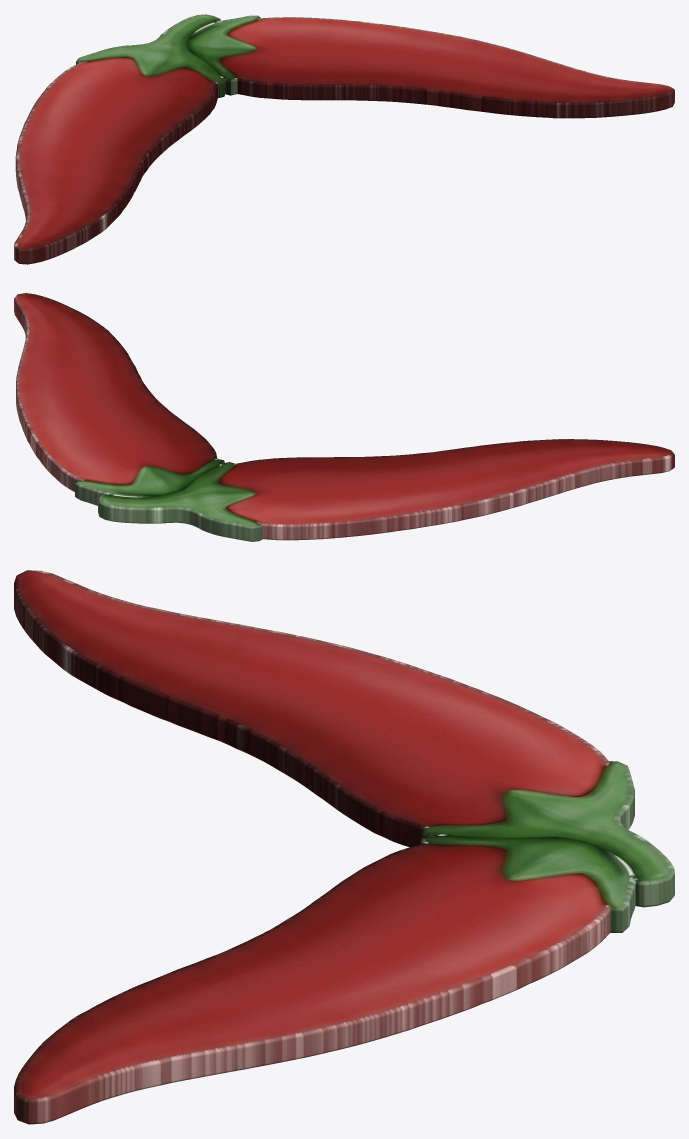
File: Boomerang_34.fbx
3 views of the same model, one above another, from view 1: azimuth 30°, elevation 25°; view 2: azimuth 150°, elevation 25°; view 3: azimuth 270°, elevation 25° (orthographic). The views are drawn at different scales.
Visible parts, largest first — view 1: Boomerang_34; view 2: Boomerang_34; view 3: Boomerang_34.
Part boxes in pixels (x1,y1,x2,y2): Boomerang_34: (14,14,674,264); Boomerang_34: (14,293,674,541); Boomerang_34: (14,570,674,1124).
Size of the model in its own units: 199 by 4.4 by 105.
1 material, 1 textured.
